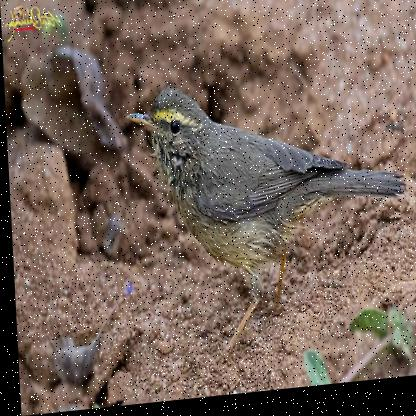Burung: (124, 70, 408, 339)
